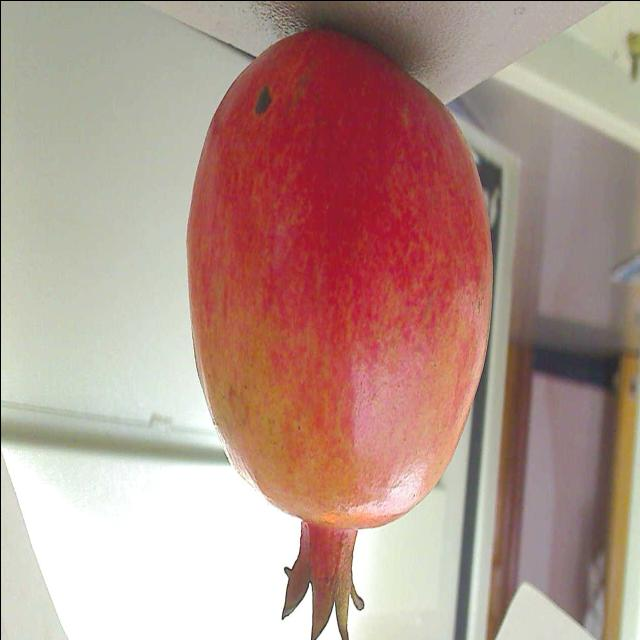pomegranate: (172, 12, 502, 640)
